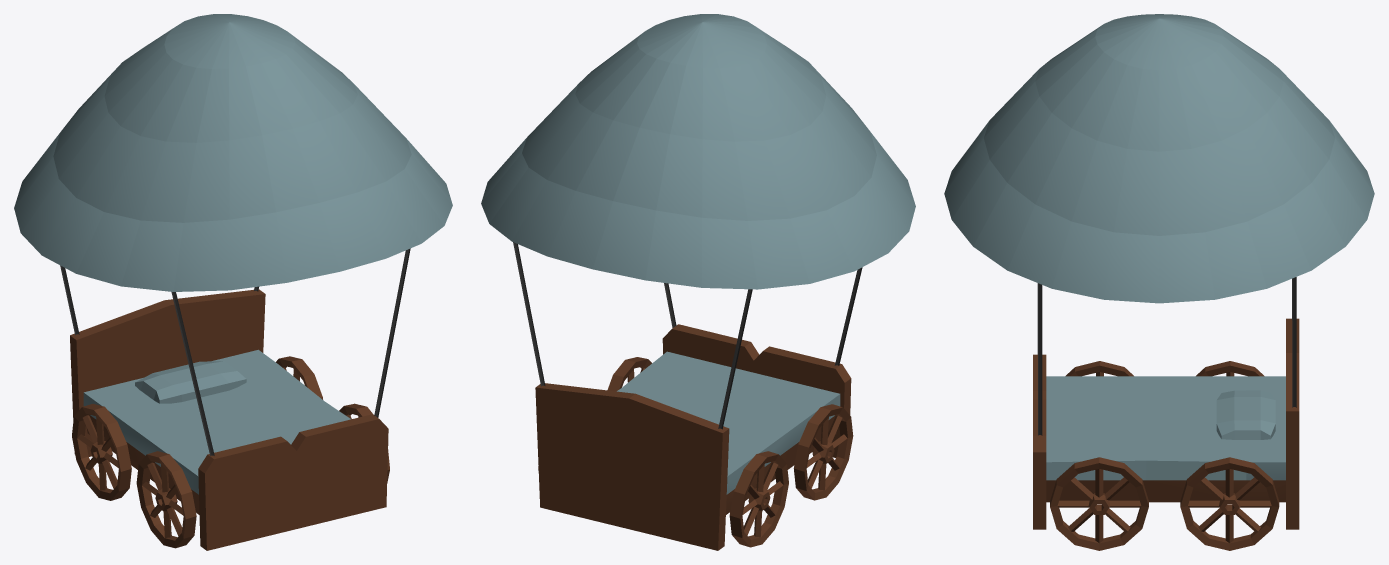
The model's file is krevet_padobran.fbx.
3 renders of one model, left to right at view 1: azimuth 30°, elevation 25°; view 2: azimuth 150°, elevation 25°; view 3: azimuth 270°, elevation 25°, orthographic.
Visible parts, largest first — view 1: capsule, bed-wood, wheel_wood.002, Cylinder.002; view 2: capsule, bed-wood, wheel_wood.002, Cylinder.002; view 3: capsule, bed-wood, wheel_wood.002, Cylinder.002.
Part boxes in pixels (<box>): capsule: <box>14,14,452,291</box>; bed-wood: <box>70,289,388,550</box>; wheel_wood.002: <box>72,356,389,548</box>; Cylinder.002: <box>60,248,410,455</box>; capsule: <box>481,14,915,289</box>; bed-wood: <box>535,324,851,550</box>; wheel_wood.002: <box>538,357,853,547</box>; Cylinder.002: <box>513,242,862,429</box>; capsule: <box>944,14,1374,303</box>; bed-wood: <box>1033,318,1299,529</box>; wheel_wood.002: <box>1050,361,1279,550</box>; Cylinder.002: <box>1037,277,1296,435</box>.
Bounding box in the file's own units: 334 × 399 × 323.
